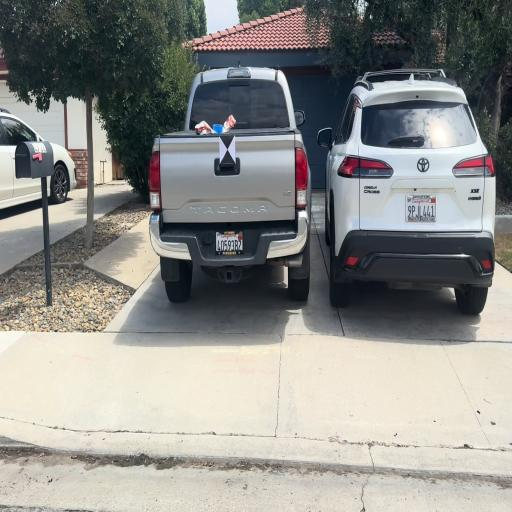target: (219, 135, 236, 164)
